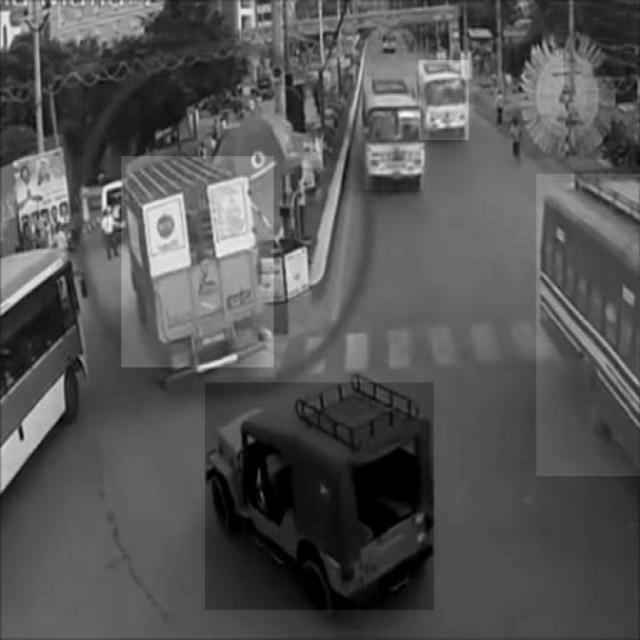vehicle: (205, 383, 433, 610), (122, 156, 274, 367), (537, 174, 640, 476), (365, 77, 423, 190), (419, 61, 469, 141)
